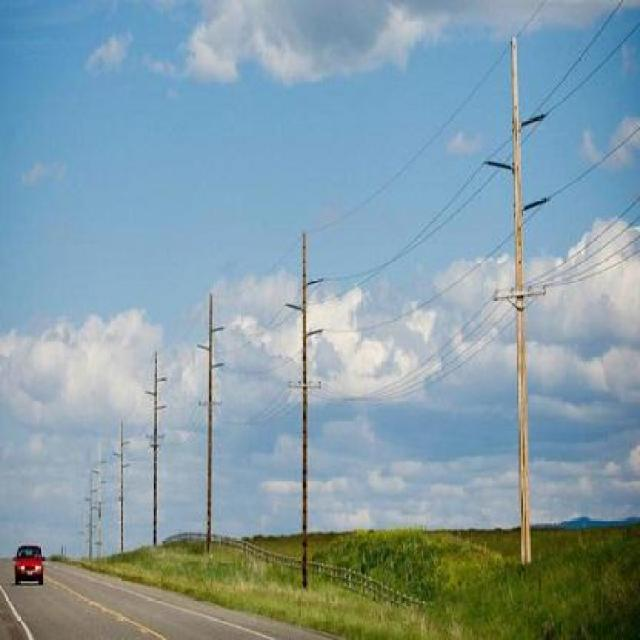pole: (457, 32, 566, 558), (272, 228, 337, 577), (186, 291, 237, 534)
